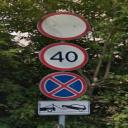speed_limit_40: (38, 42, 88, 71)
